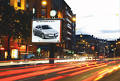board: (29, 17, 64, 65)
